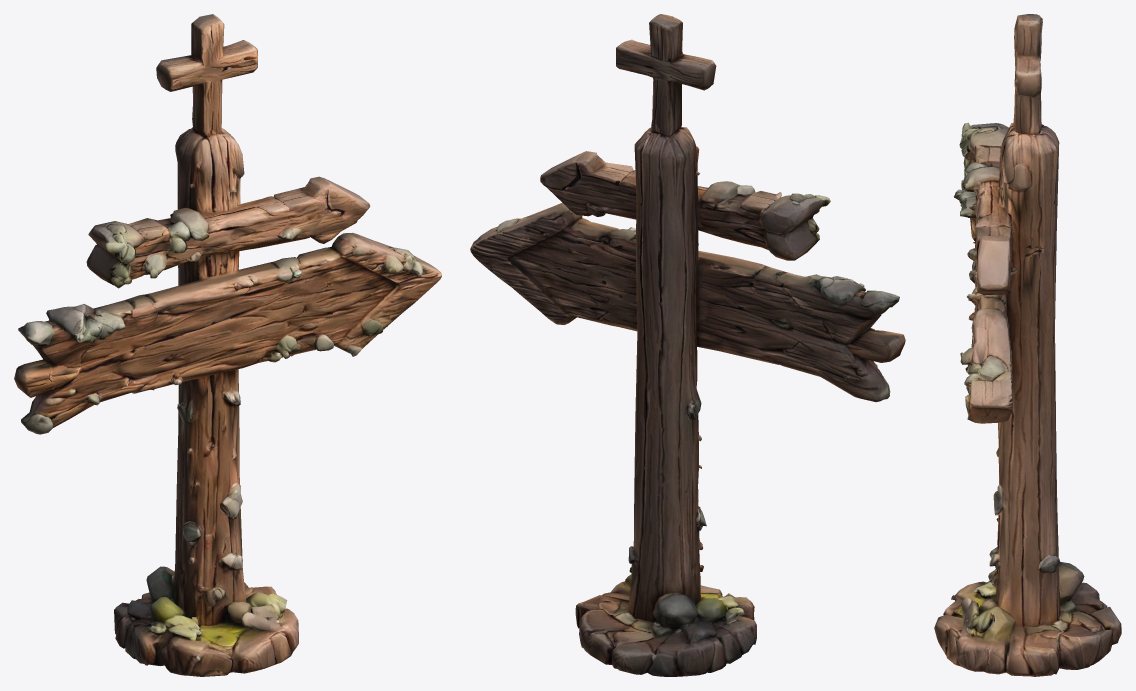
The model's file is signpost.glb.
3 views of the same model, side by side, from view 1: azimuth 30°, elevation 25°; view 2: azimuth 150°, elevation 25°; view 3: azimuth 270°, elevation 25° (orthographic).
Visible parts, largest first — view 1: tripo_node_0eb5d8c4-a2b6-4af4-986a-57e02c501928; view 2: tripo_node_0eb5d8c4-a2b6-4af4-986a-57e02c501928; view 3: tripo_node_0eb5d8c4-a2b6-4af4-986a-57e02c501928.
Boxes of the visible parts, x1,y1,x2,y2 form: tripo_node_0eb5d8c4-a2b6-4af4-986a-57e02c501928: [14, 14, 441, 676]; tripo_node_0eb5d8c4-a2b6-4af4-986a-57e02c501928: [470, 14, 905, 676]; tripo_node_0eb5d8c4-a2b6-4af4-986a-57e02c501928: [934, 14, 1121, 676].
Bounding box in the file's own units: 0.6928 × 0.9786 × 0.2658.
Materials: 1 (1 with a texture image).
